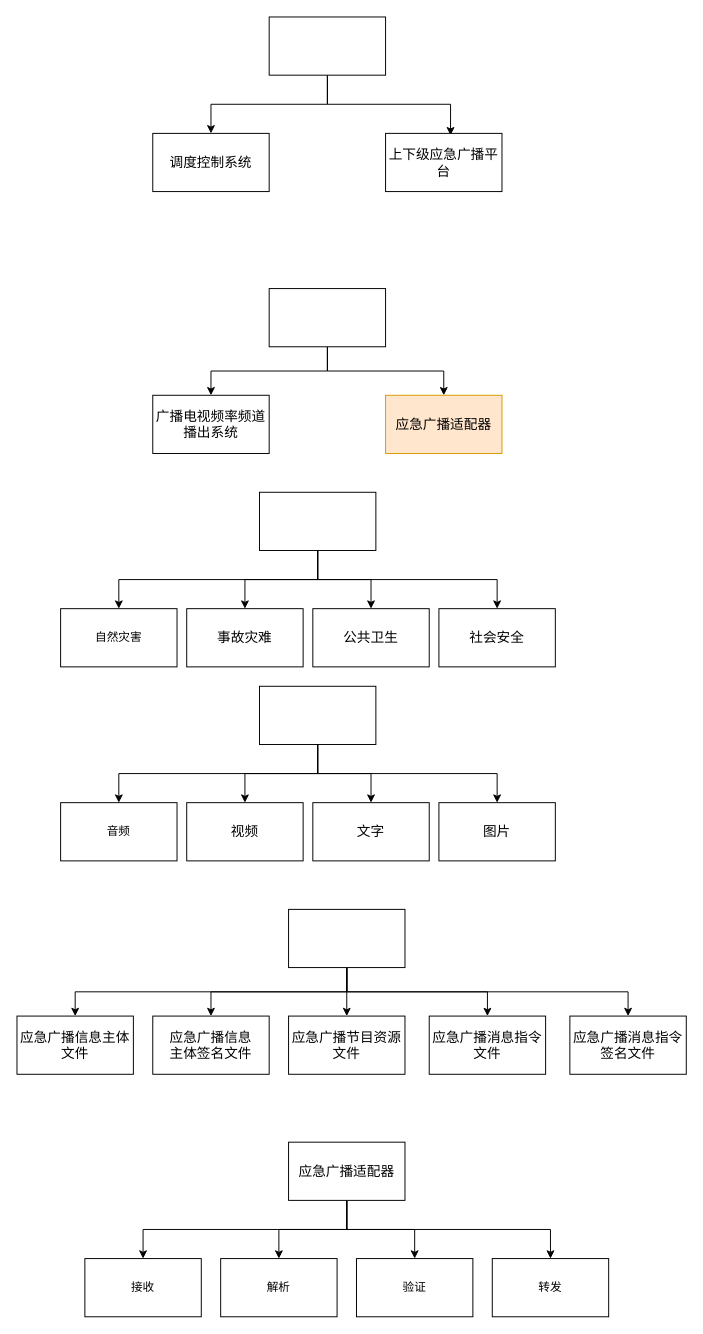
The diagram is 703 pixels wide and 1334 high, and some of its shapes have lost their labels. Here are the shapes that lost their labels. From the top down, the box of each, then its label:
(268, 16, 386, 75): 应急广播平台制作播发系统
(268, 288, 386, 347): 应 急广播平台
(259, 491, 376, 550): 广播内容
(259, 685, 376, 744): 广播格式
(288, 908, 405, 968): 应急广播消息
